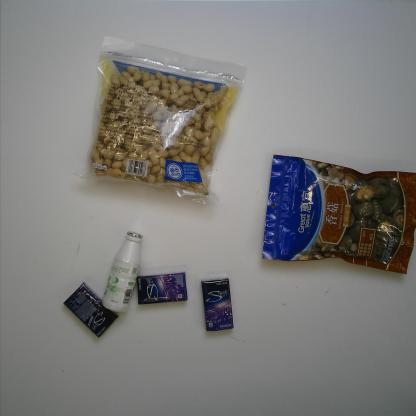Dried Food: (73, 34, 248, 206), (261, 154, 416, 275)
Gum: (64, 282, 118, 338), (201, 277, 234, 331), (136, 271, 188, 305)
Milk: (101, 230, 144, 314)
